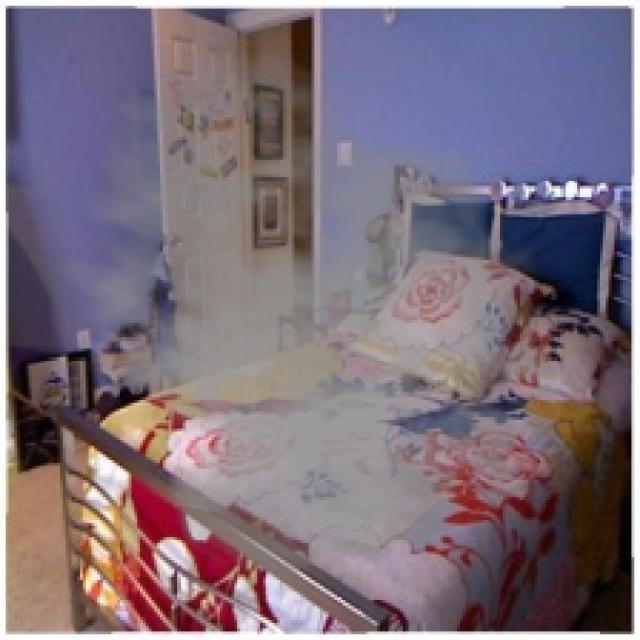smoke: (34, 46, 580, 588)
